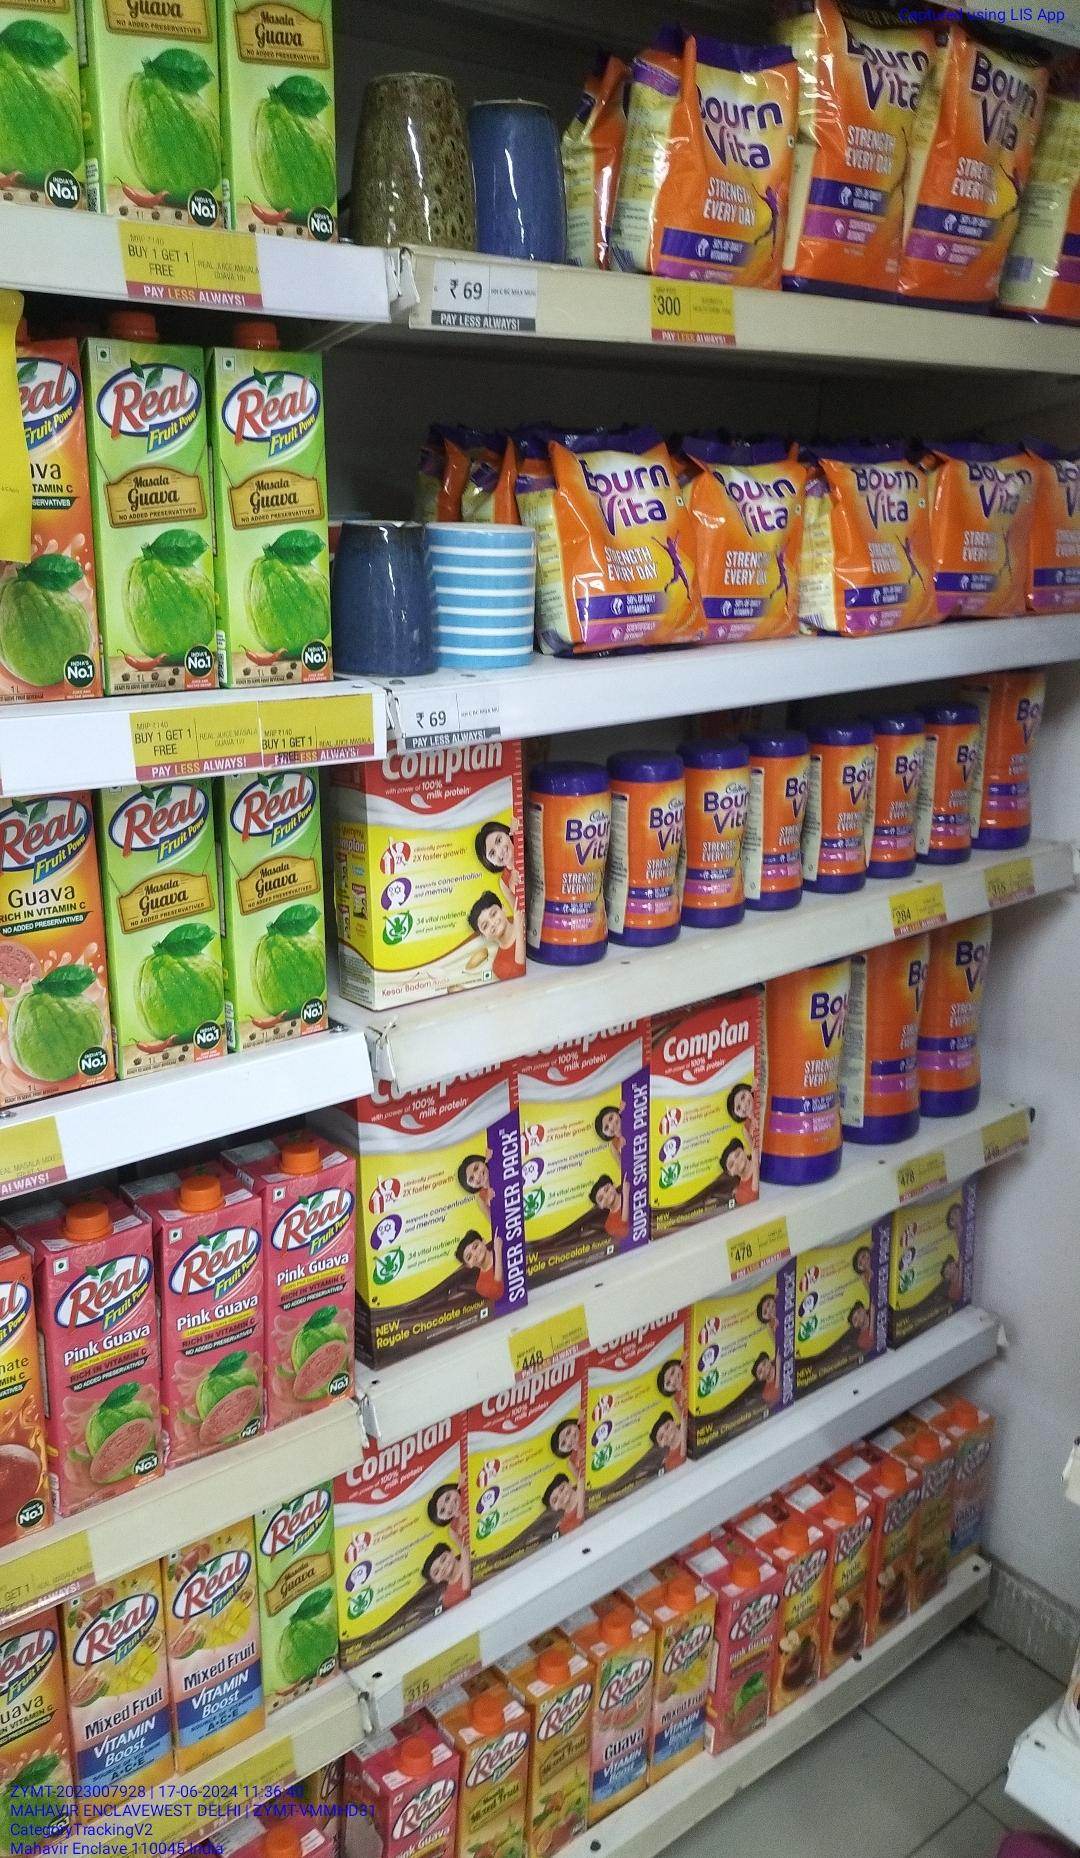BOURN_VITA_500_G_POUCH: (571, 435, 697, 656), (706, 441, 801, 639)
COMPLAN_CHOCOLATE_1_KG_PACK: (364, 1067, 517, 1358), (521, 1034, 651, 1277), (697, 1287, 792, 1456), (797, 1234, 888, 1399), (895, 1184, 975, 1344)
COMPLAN_CHOCOLATE_500_GMS_PACK: (338, 1417, 465, 1679), (654, 999, 761, 1228), (476, 1366, 585, 1576), (590, 1317, 690, 1512)
COMPLAN_KESAR_BADAM_500_GMS_PACK: (377, 739, 526, 1002)
